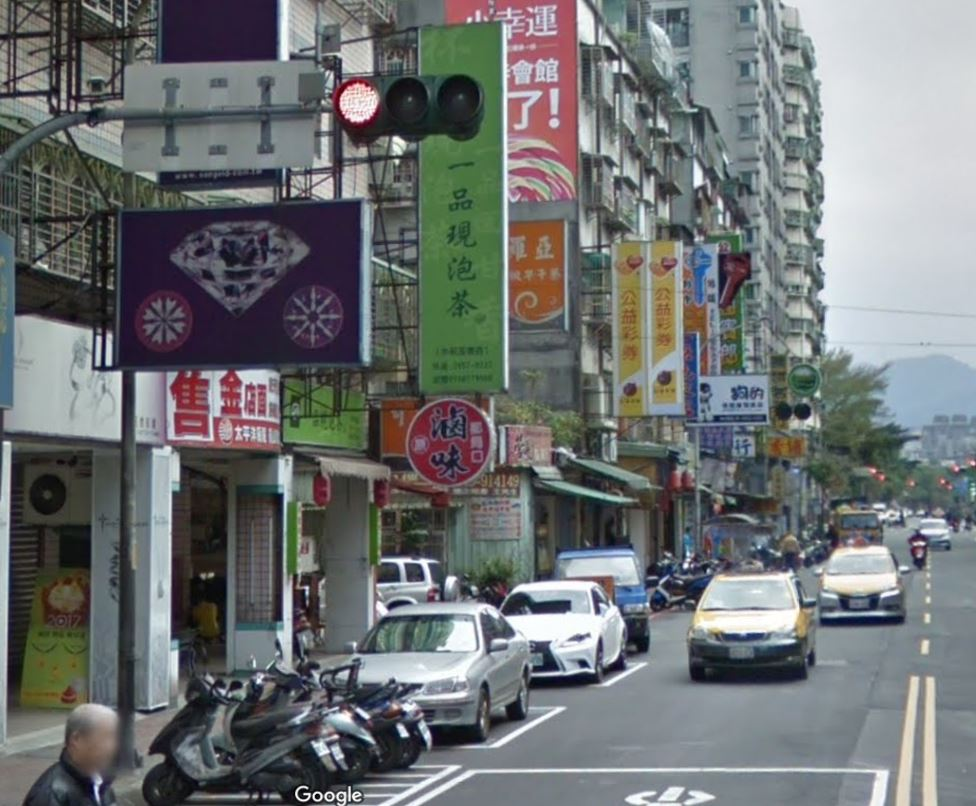Traffic_light_red: (333, 74, 487, 136)
